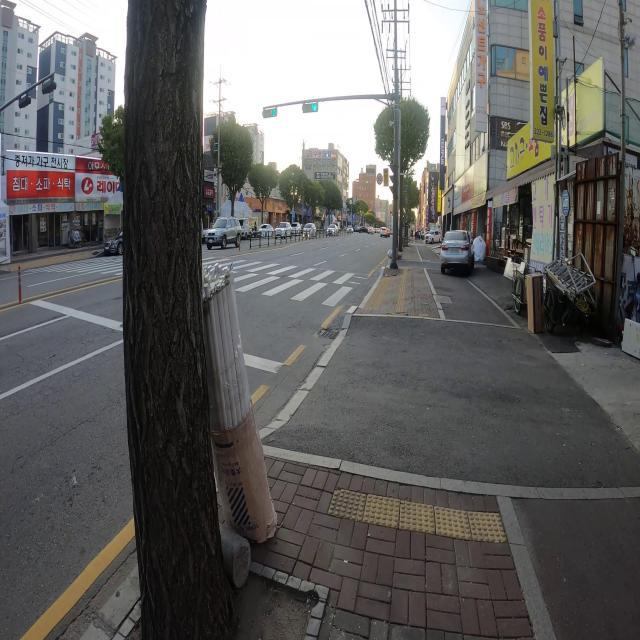crosswalk: (28, 251, 367, 314)
